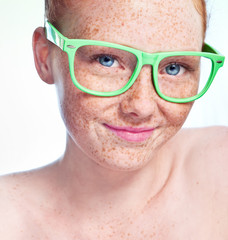teen: (33, 5, 207, 167)
